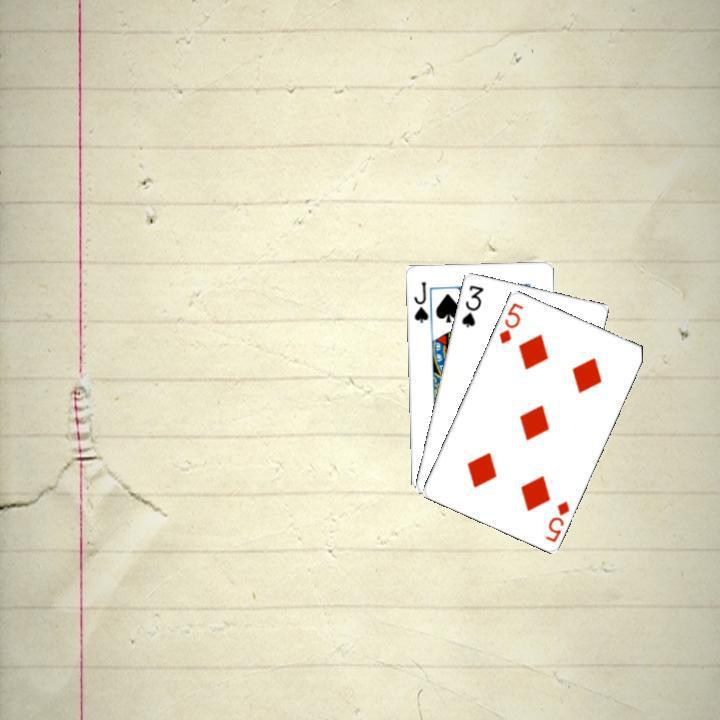3: (457, 280, 485, 329)
5: (494, 298, 525, 346), (541, 496, 572, 544)
J: (409, 277, 430, 324)
